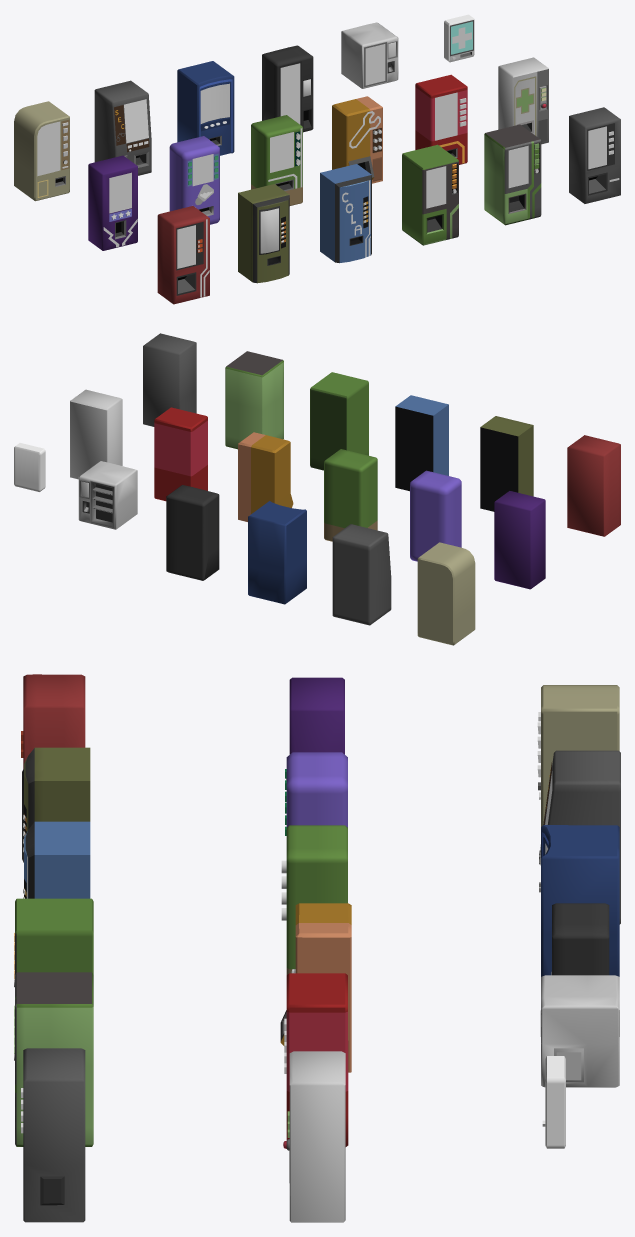
The model's file is VendingMachines.fbx.
3 views of the same model, one above another, from view 1: azimuth 30°, elevation 25°; view 2: azimuth 150°, elevation 25°; view 3: azimuth 270°, elevation 25° (orthographic). The views are drawn at different scales.
Visible parts, largest first — view 1: RobustSoftDrinks, HotDrinks, NutriMax, MegaSeed, Getmore, CigaretteMachine, PTech, MagiVend, SecTech, Vendomat, NanoMedPlus, YouTool (+19 smaller); view 2: Vendomat, PTech, SecTech, Getmore, NutriMax, MegaSeed, BoozeOMat, MagiVend, AutoDrobe, RobustSoftDrinks, HotDrinks, MegaSeedServitor (+6 smaller); view 3: CigaretteMachine, NanoMedPlus, Vendomat, NutriMax, ChemicalFridge, PTech, MegaSeed, MegaSeedServitor, AutoDrobe, SecTech, HotDrinks, RobustSoftDrinks (+7 smaller).
Part boxes in pixels (x1,y1,x2,y2): RobustSoftDrinks: [320, 164, 371, 263]; HotDrinks: [238, 184, 289, 283]; NutriMax: [484, 124, 541, 225]; MegaSeed: [402, 144, 458, 245]; Getmore: [157, 206, 209, 304]; CigaretteMachine: [569, 107, 620, 203]; PTech: [14, 101, 69, 201]; MagiVend: [88, 155, 137, 250]; SecTech: [94, 80, 151, 175]; Vendomat: [177, 61, 234, 155]; NanoMedPlus: [498, 57, 548, 144]; YouTool: [332, 96, 382, 183]; Vendomat: [248, 501, 306, 604]; PTech: [417, 542, 475, 645]; SecTech: [332, 524, 391, 625]; Getmore: [567, 435, 620, 536]; NutriMax: [225, 351, 283, 449]; MegaSeed: [310, 372, 368, 470]; BoozeOMat: [166, 485, 219, 580]; MagiVend: [494, 491, 545, 589]; AutoDrobe: [154, 407, 207, 501]; RobustSoftDrinks: [395, 395, 448, 491]; HotDrinks: [480, 416, 533, 511]; MegaSeedServitor: [324, 449, 377, 541]; CigaretteMachine: [21, 1048, 85, 1222]; NanoMedPlus: [283, 1051, 345, 1222]; Vendomat: [541, 825, 619, 976]; NutriMax: [14, 972, 93, 1146]; ChemicalFridge: [540, 975, 619, 1087]; PTech: [537, 685, 619, 826]; MegaSeed: [14, 898, 93, 987]; MegaSeedServitor: [281, 825, 347, 974]; AutoDrobe: [284, 973, 348, 1146]; SecTech: [539, 750, 620, 924]; HotDrinks: [22, 747, 90, 862]; RobustSoftDrinks: [23, 821, 90, 898].
Bounding box in the file's own units: 10.9 × 1.84 × 6.92.
